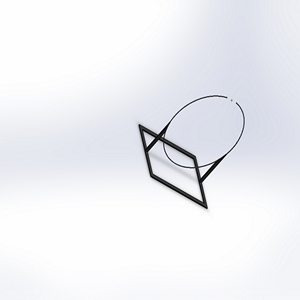circle: (137, 92, 247, 209)
